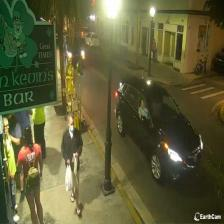person: (17, 124, 43, 224), (60, 114, 82, 216), (1, 116, 20, 222)
